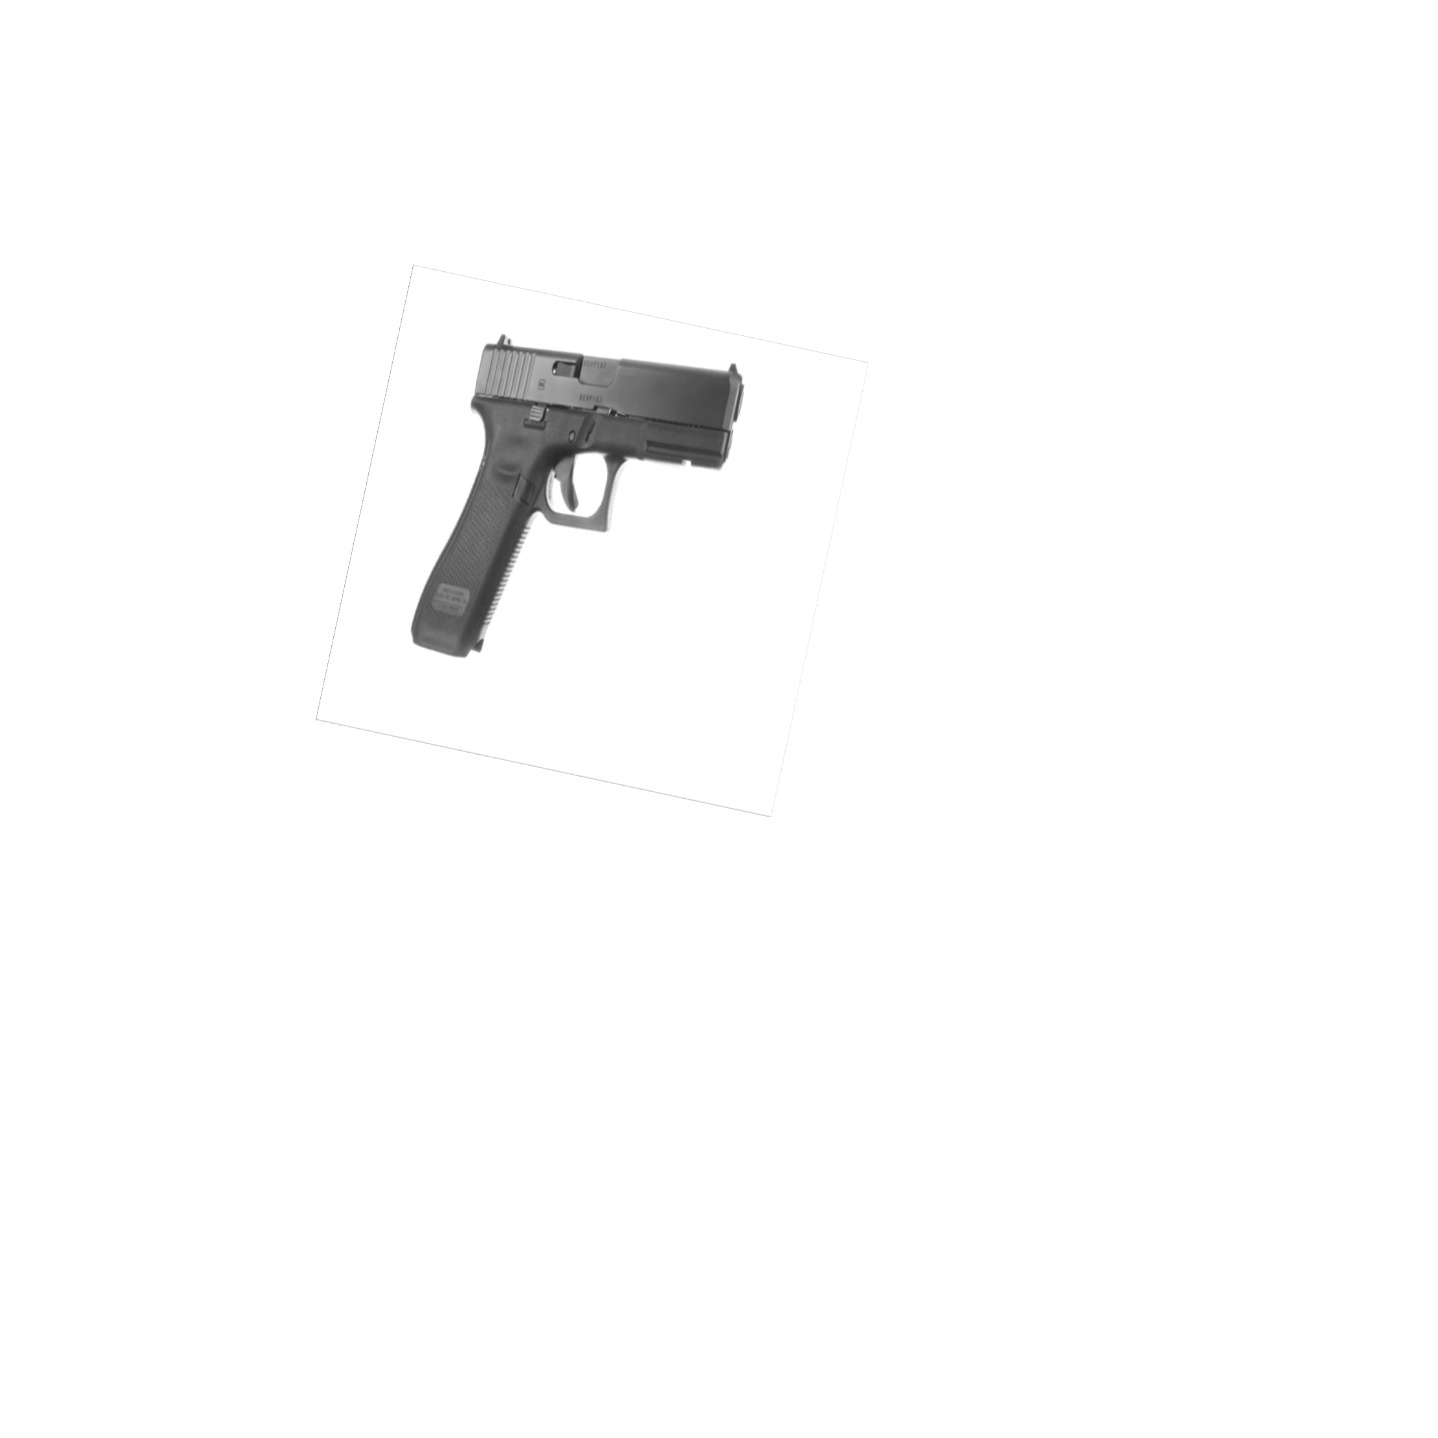gun: (411, 334, 744, 658)
